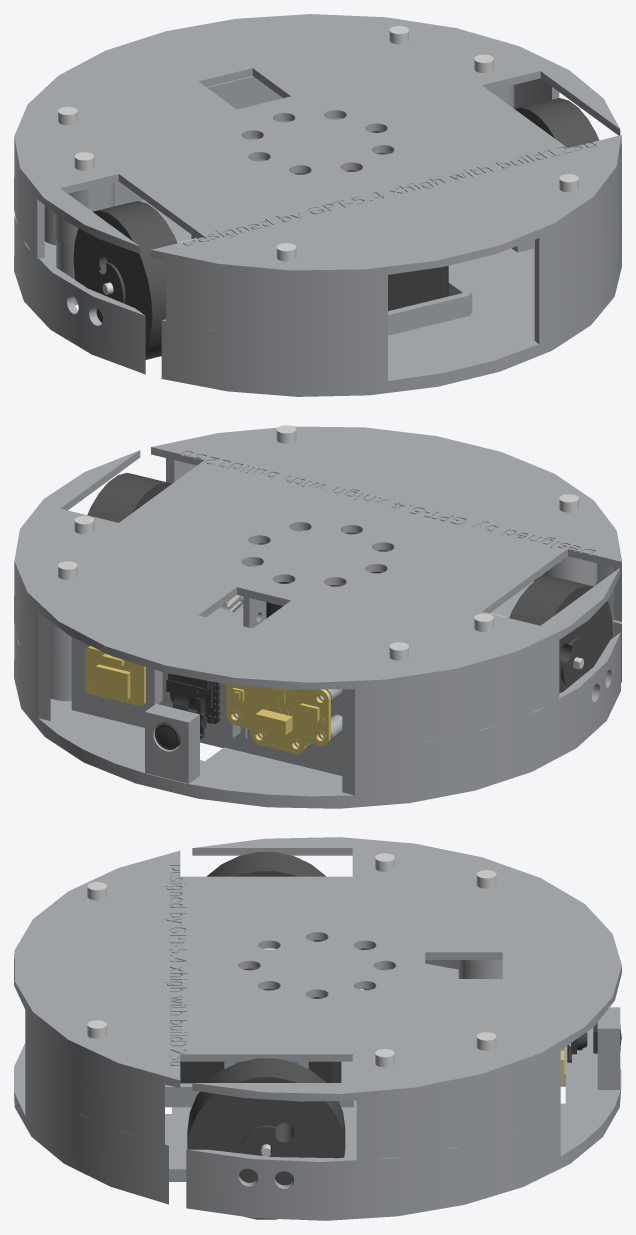
Rendered from flat-disk-robot.glb.
The picture shows the model from 3 angles, top to bottom: view 1: azimuth 30°, elevation 25°; view 2: azimuth 150°, elevation 25°; view 3: azimuth 270°, elevation 25°; orthographic projection.
Parts seen in each view (by area): view 1: =>[0:1:1:6], =>[0:1:1:4], =>[0:1:1:357], =>[0:1:1:398], =>[0:1:1:9]; view 2: =>[0:1:1:6], =>[0:1:1:4], =>[0:1:1:357], =>[0:1:1:139], =>[0:1:1:398], =>[0:1:1:328], =>[0:1:1:136], =>[0:1:1:330], =>[0:1:1:225]; view 3: =>[0:1:1:6], =>[0:1:1:4], =>[0:1:1:398], =>[0:1:1:357], =>[0:1:1:9].
Boxes of the visible parts, x1,y1,x2,y2 form: =>[0:1:1:6]: [14, 14, 621, 338]; =>[0:1:1:4]: [14, 76, 621, 396]; =>[0:1:1:357]: [73, 201, 177, 359]; =>[0:1:1:398]: [514, 98, 599, 147]; =>[0:1:1:9]: [388, 265, 448, 310]; =>[0:1:1:6]: [14, 426, 621, 749]; =>[0:1:1:4]: [14, 529, 621, 808]; =>[0:1:1:357]: [509, 575, 612, 693]; =>[0:1:1:139]: [226, 684, 330, 754]; =>[0:1:1:398]: [87, 473, 171, 522]; =>[0:1:1:328]: [85, 646, 145, 706]; =>[0:1:1:136]: [155, 679, 197, 749]; =>[0:1:1:330]: [96, 664, 130, 699]; =>[0:1:1:225]: [255, 709, 292, 735]; =>[0:1:1:6]: [14, 837, 621, 1160]; =>[0:1:1:4]: [14, 940, 621, 1220]; =>[0:1:1:398]: [187, 1058, 345, 1219]; =>[0:1:1:357]: [207, 852, 325, 941]; =>[0:1:1:9]: [180, 1061, 341, 1083].
Bounding box in the file's own units: 0.216 × 0.0593 × 0.2155.
